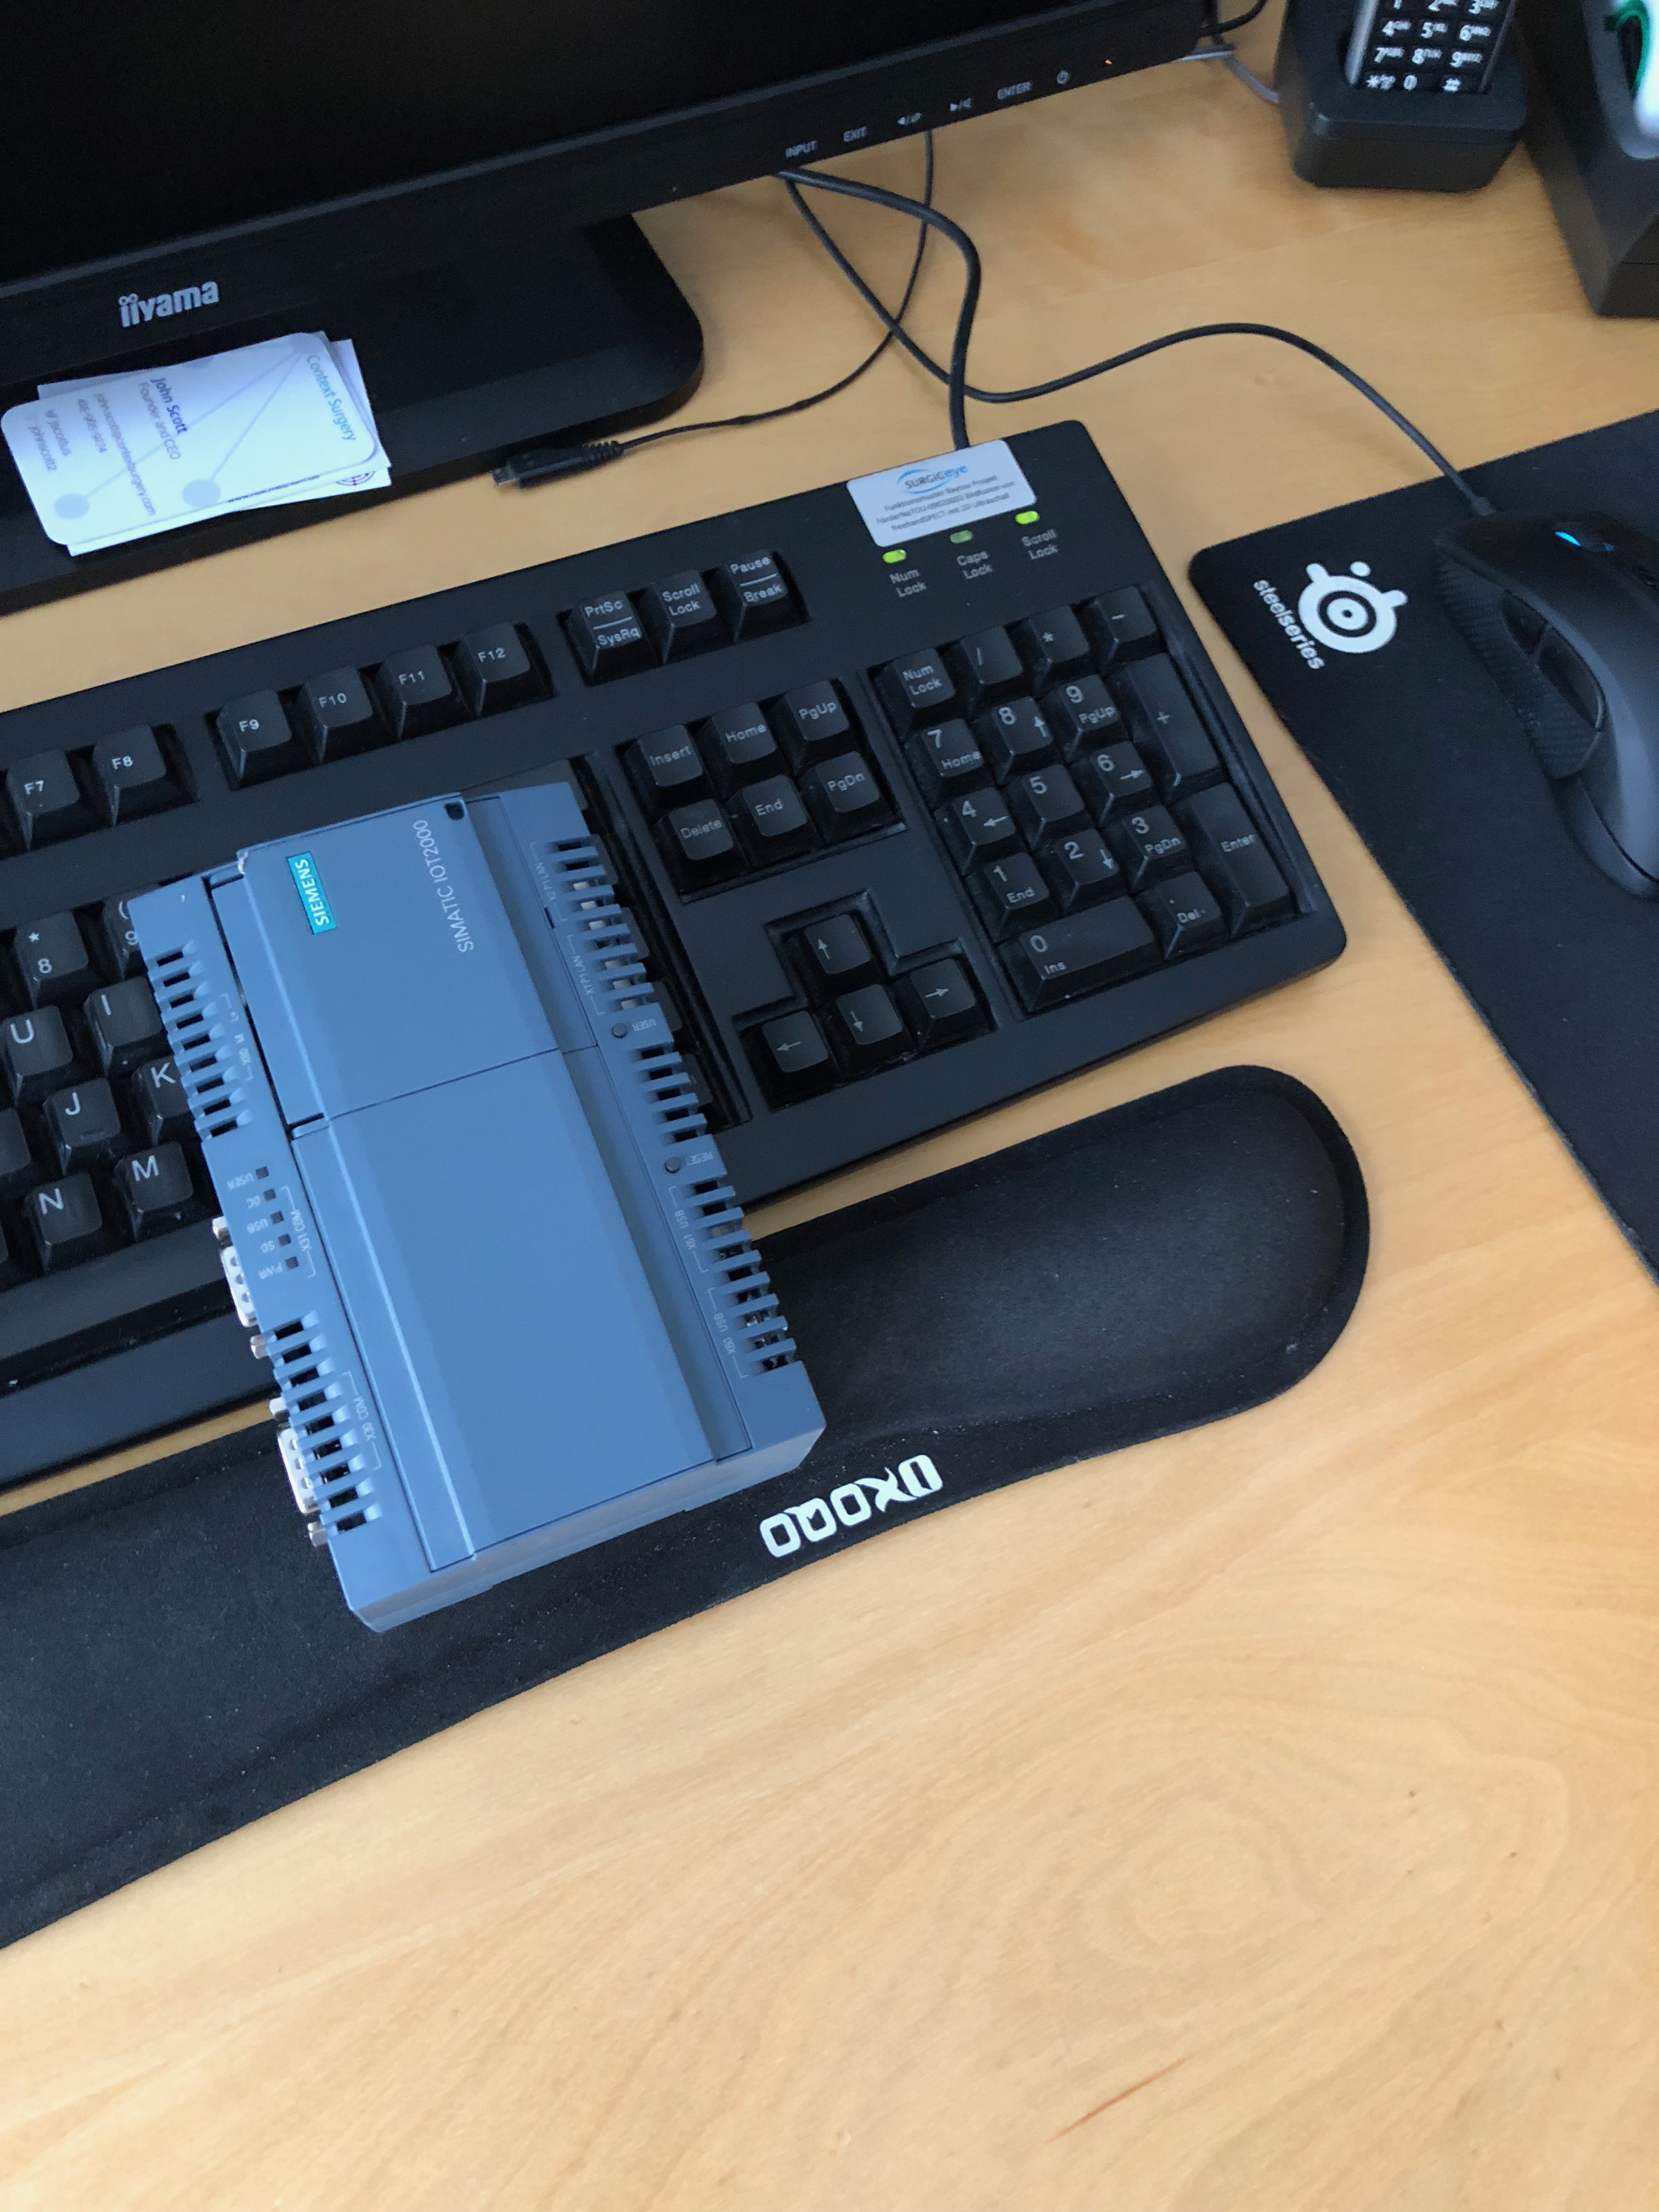device: (127, 782, 828, 1634)
